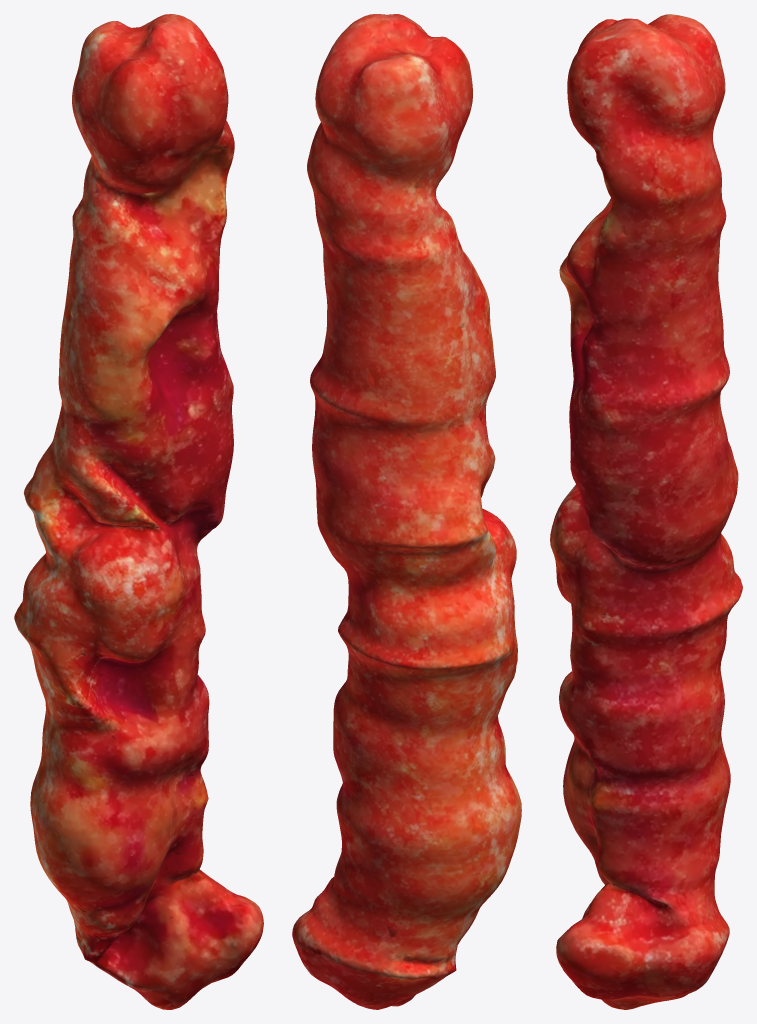
Rendered from cheeto.glb.
The picture shows the model from 3 angles, left to right: view 1: azimuth 30°, elevation 25°; view 2: azimuth 150°, elevation 25°; view 3: azimuth 270°, elevation 25°; orthographic projection.
Visible parts, largest first — view 1: geometry_0; view 2: geometry_0; view 3: geometry_0.
Boxes of the visible parts, left/top/right/bottom form: geometry_0: left=14, top=14, right=263, bottom=1009; geometry_0: left=292, top=14, right=521, bottom=1009; geometry_0: left=550, top=14, right=742, bottom=1009.
Bounding box in the file's own units: 0.2102 × 0.9808 × 0.1734.
1 material, 1 textured.
